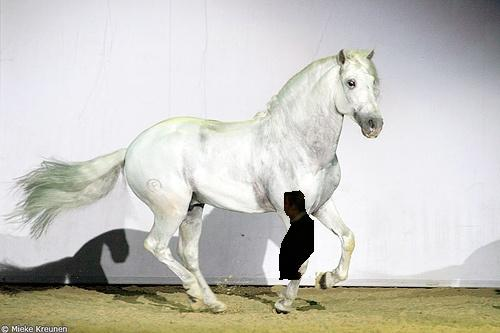tampered: (280, 191, 314, 280)
